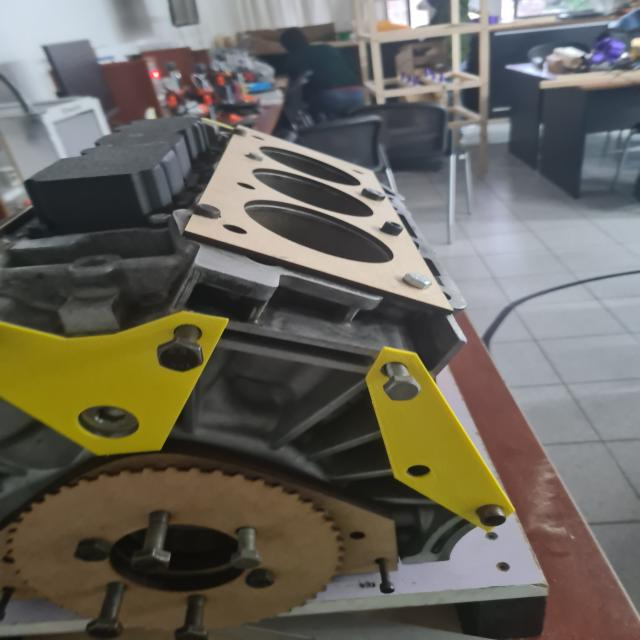vista1: (183, 126, 454, 310)
